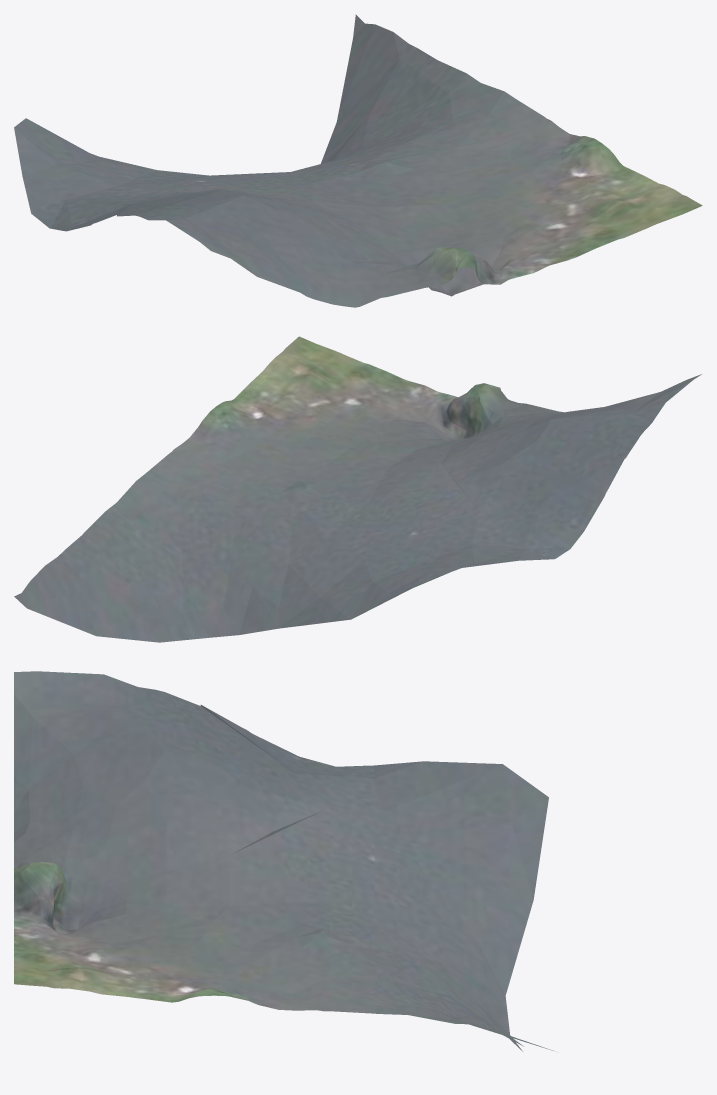
The model's file is Tile__000__006_L22_00002000.glb.
The picture shows the model from 3 angles, top to bottom: view 1: azimuth 30°, elevation 25°; view 2: azimuth 150°, elevation 25°; view 3: azimuth 270°, elevation 25°; orthographic projection. The views are drawn at different scales.
Visible parts, largest first — view 1: root; view 2: root; view 3: root.
Part boxes in pixels (x1,y1,x2,y2): root: [14, 14, 702, 307]; root: [14, 336, 701, 642]; root: [14, 671, 553, 1051].
Bounding box in the file's own units: 14.96 × 6.36 × 18.28.
1 material, 1 textured.
